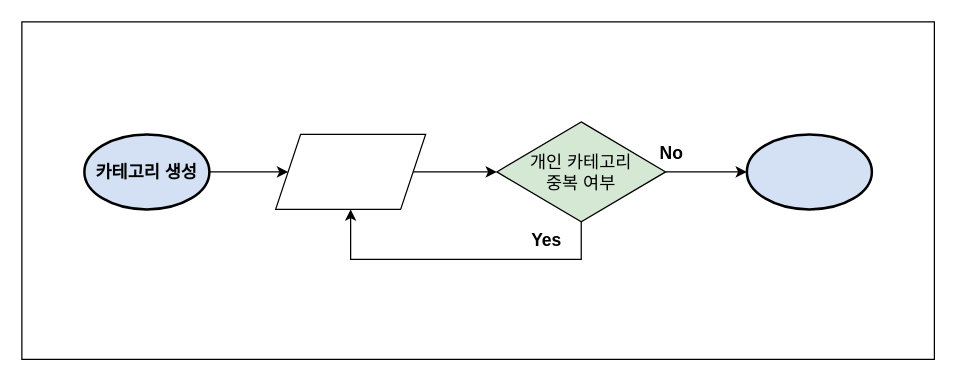
Some shapes in this 956 by 381 pixel diagram are drawn without their labels. The centre of each missing label's shape, as x and y in pixels:
카테고리 등록 완료: point (808, 171)
카테고리 입력: point (350, 171)
